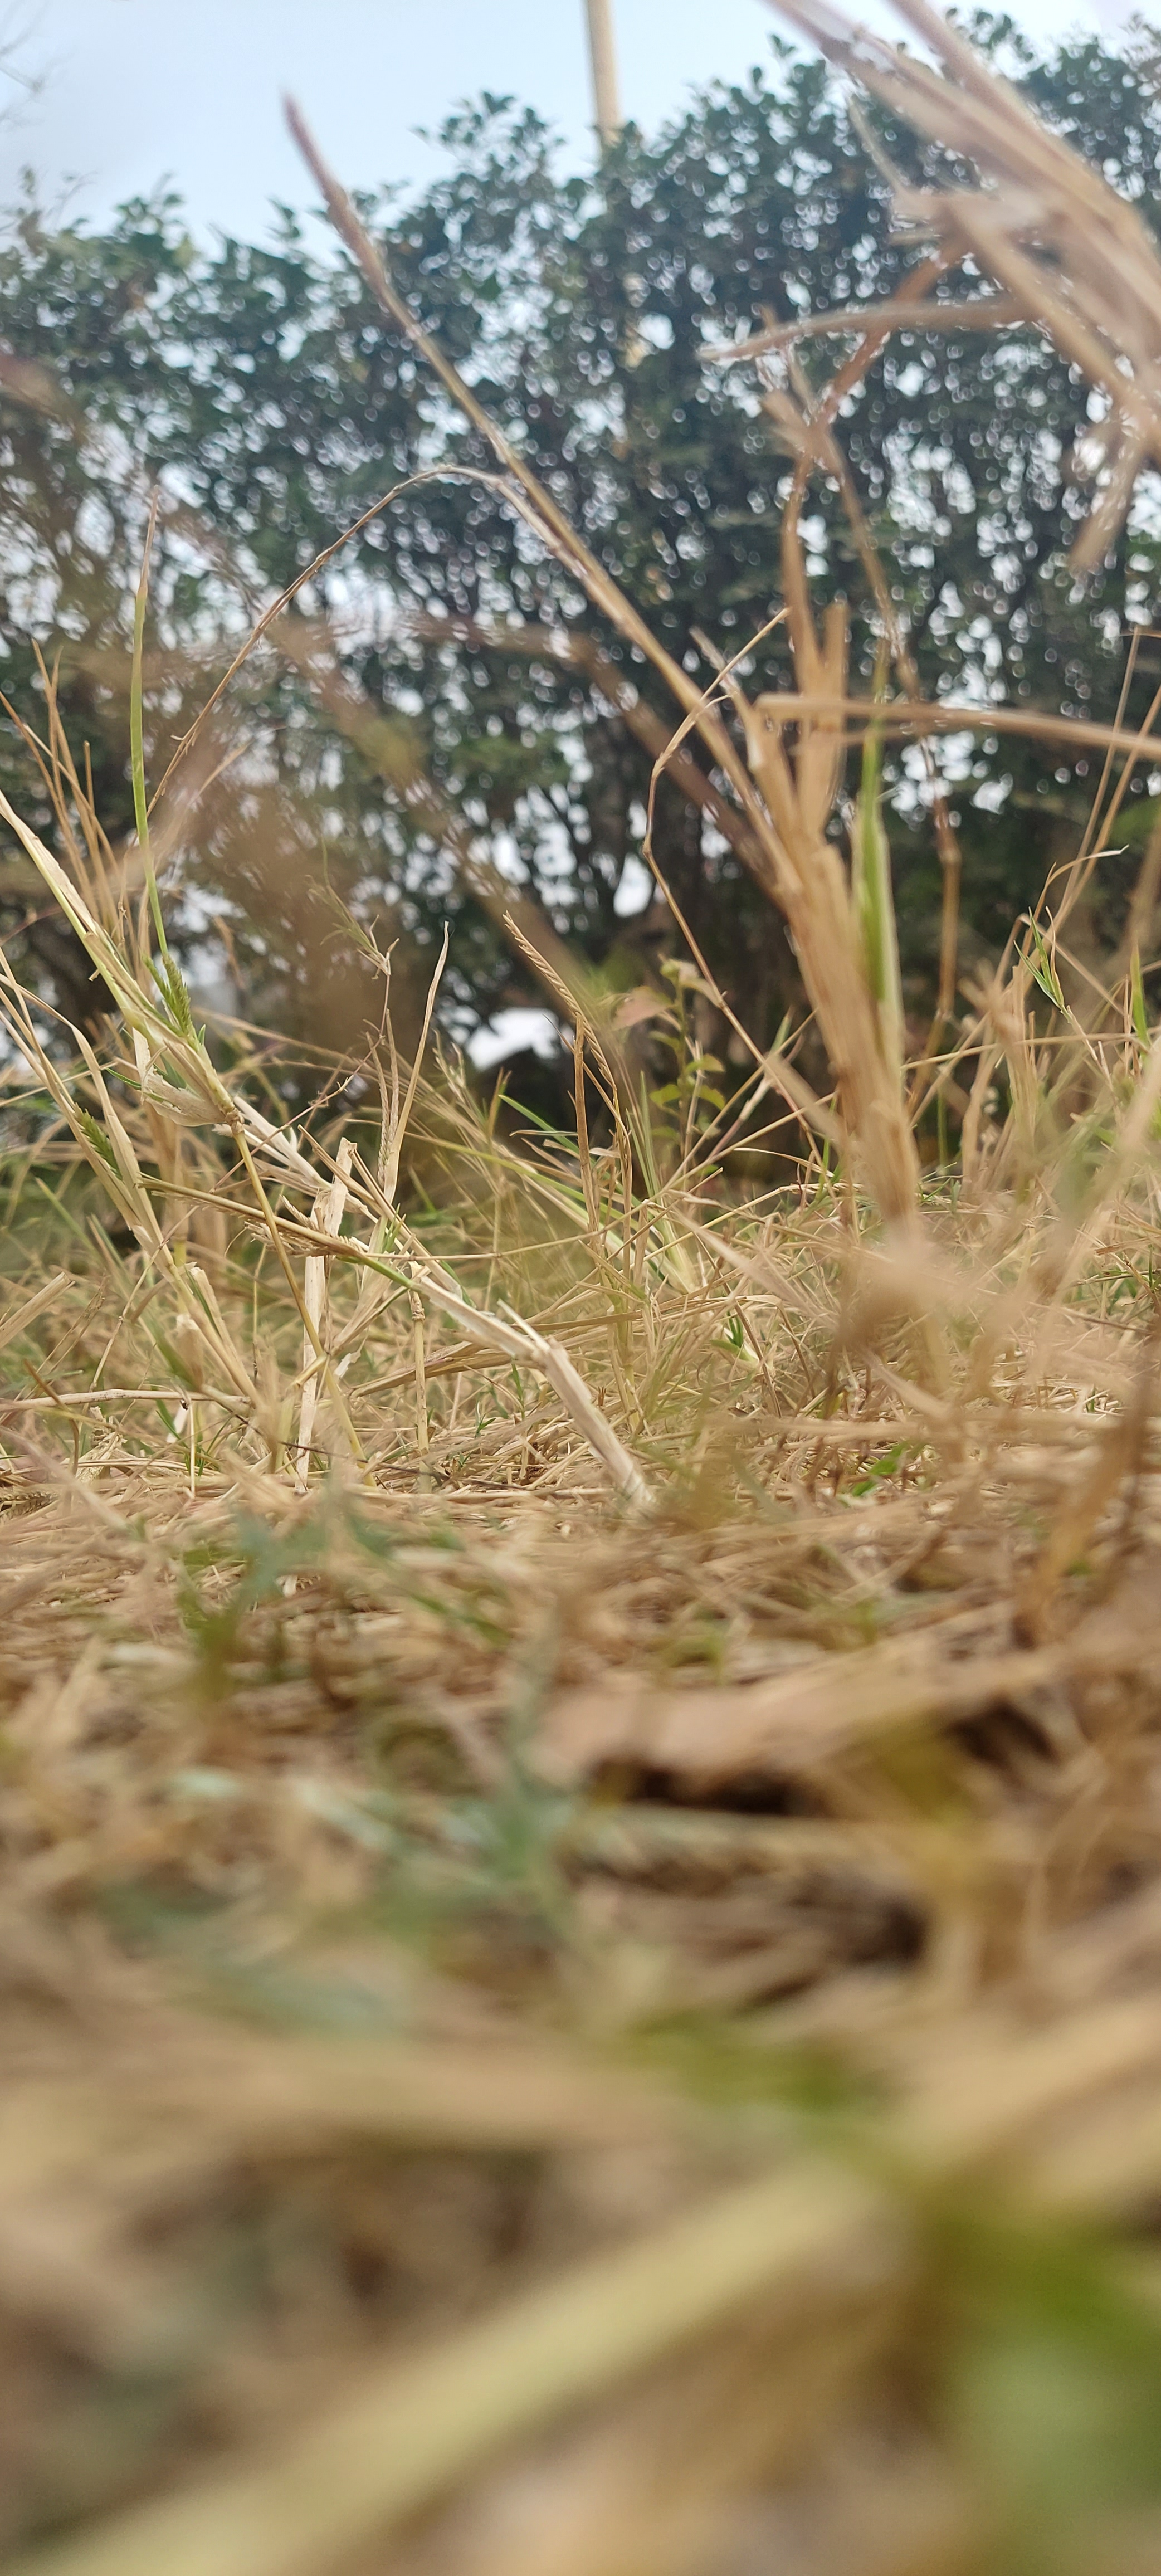Grass: (20, 1260, 1161, 2576)
